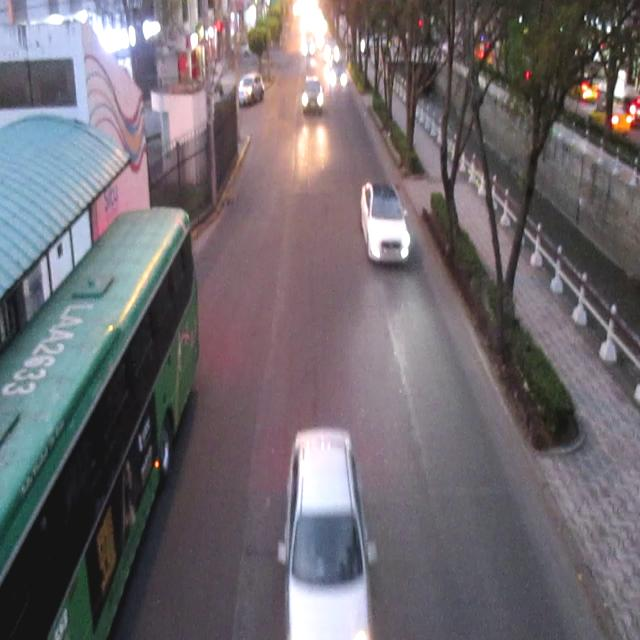BUS: (3, 213, 204, 640)
SUV: (239, 76, 263, 106)
